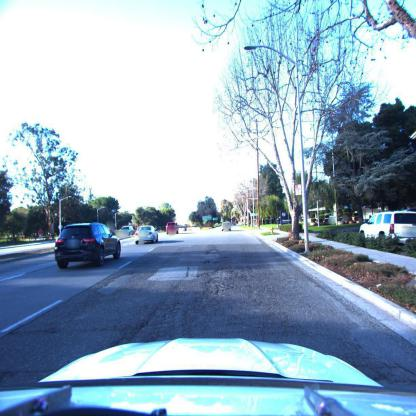car: (6, 336, 416, 416), (53, 222, 125, 270), (360, 212, 416, 247), (136, 227, 160, 245), (112, 226, 136, 240), (166, 222, 179, 235), (221, 222, 232, 231)
traffic light: (203, 216, 212, 222), (212, 218, 218, 221)
